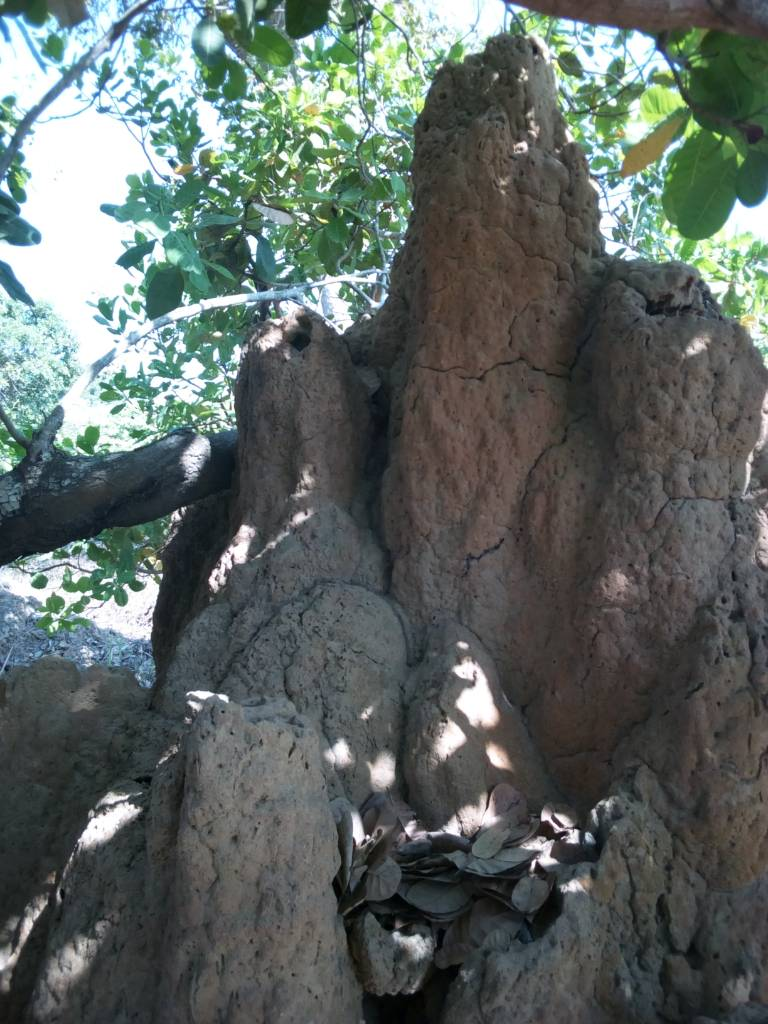Termites: (343, 187, 684, 766), (13, 666, 350, 1024), (236, 305, 338, 671), (600, 800, 766, 1022)
